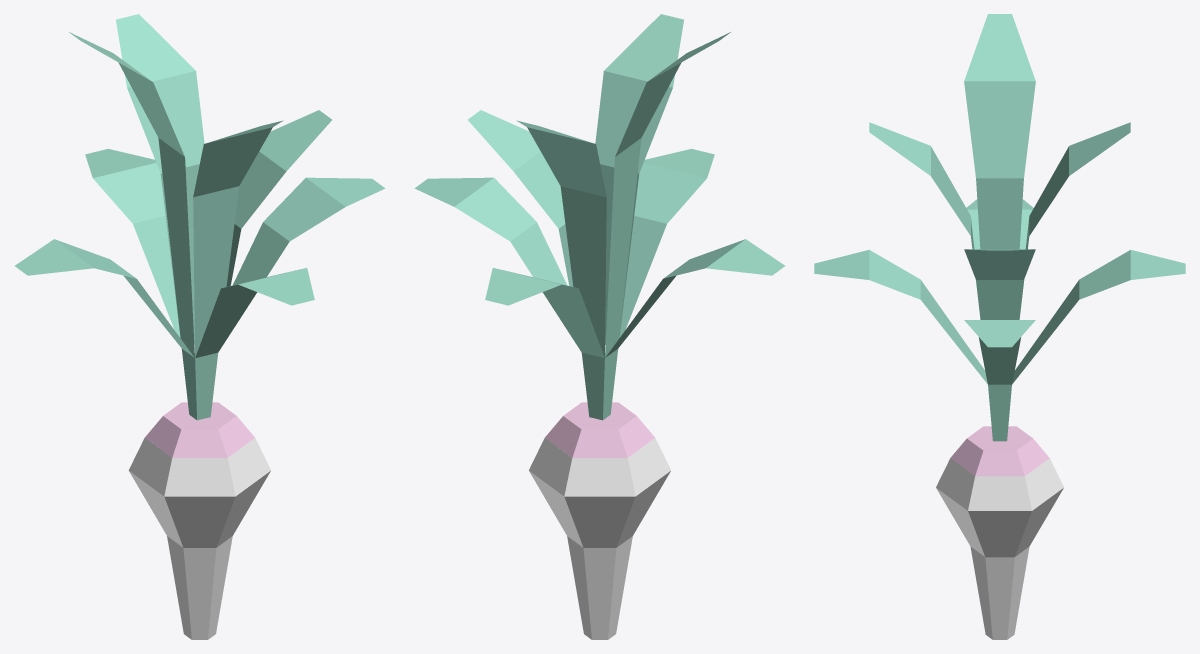
3 renders of one model, left to right at view 1: azimuth 30°, elevation 25°; view 2: azimuth 150°, elevation 25°; view 3: azimuth 270°, elevation 25°, orthographic. The views are drawn at different scales.
Visible parts, largest first — view 1: radish; view 2: radish; view 3: radish.
Boxes of the visible parts, x1,y1,x2,y2 form: radish: (15,14,385,639); radish: (414,14,784,639); radish: (814,14,1185,639).
Bounding box in the file's own units: 0.3432 × 0.5763 × 0.3432.
